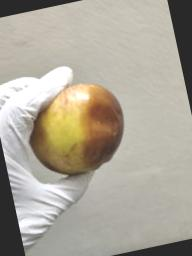Apple Overripe: (20, 76, 134, 180)
